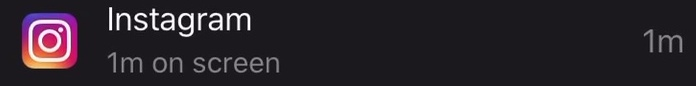name: (98, 1, 264, 41)
time: (102, 48, 150, 84)
